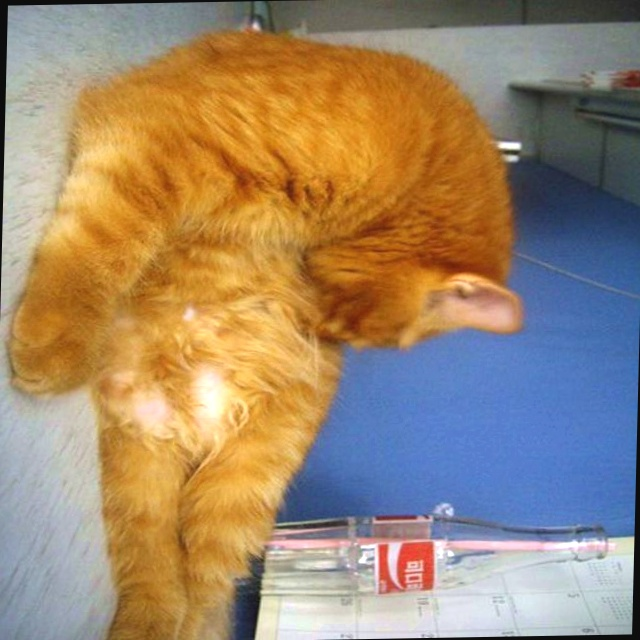hairloss: (114, 373, 229, 442)
